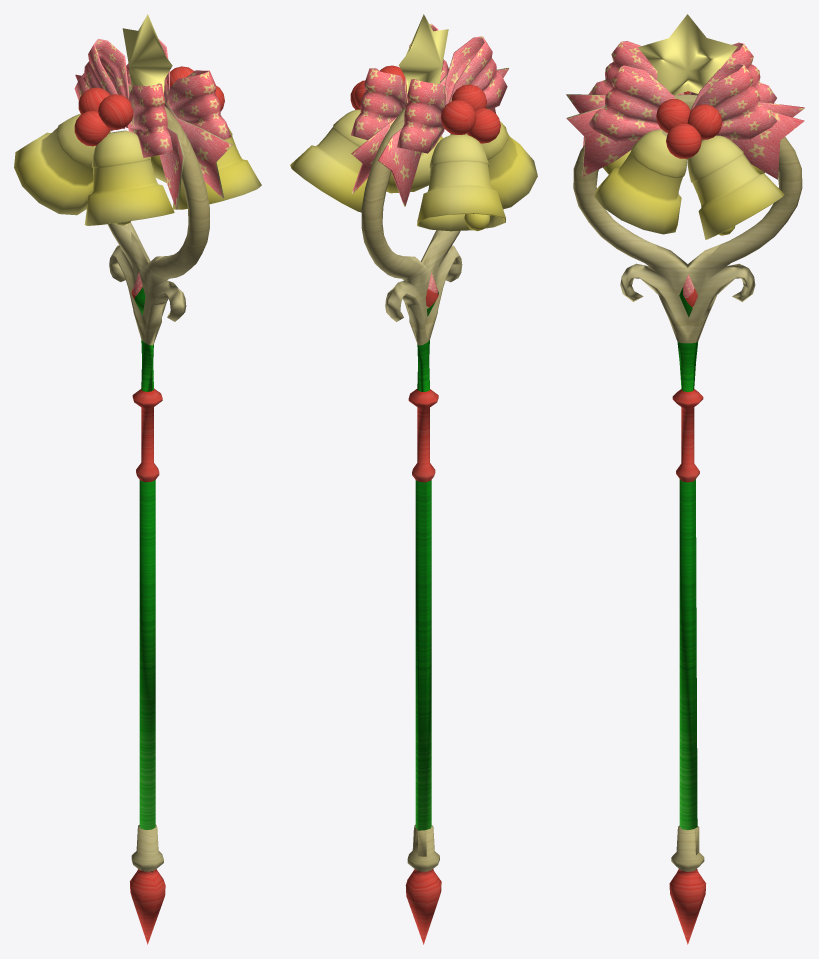
File: WandObject_3d_008.fbx
The picture shows the model from 3 angles, left to right: view 1: azimuth 30°, elevation 25°; view 2: azimuth 150°, elevation 25°; view 3: azimuth 270°, elevation 25°; orthographic projection.
Parts seen in each view (by area): view 1: Line021; view 2: Line021; view 3: Line021.
Part boxes in pixels (<box>): Line021: <box>14,14,261,944</box>; Line021: <box>290,14,537,944</box>; Line021: <box>566,14,804,944</box>.
Size of the model in its own units: 1.4 by 5.98 by 1.39.
